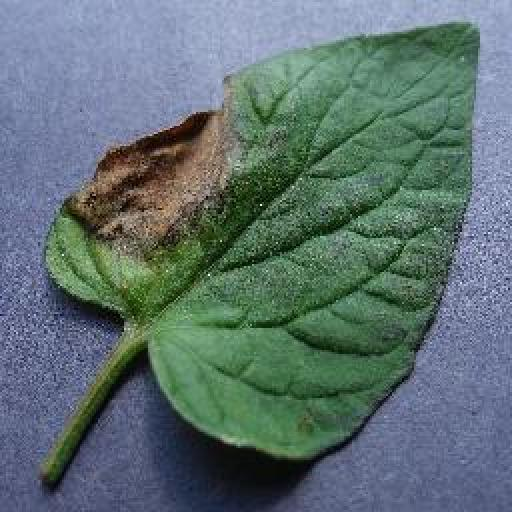Late Blight: (46, 20, 482, 459)
